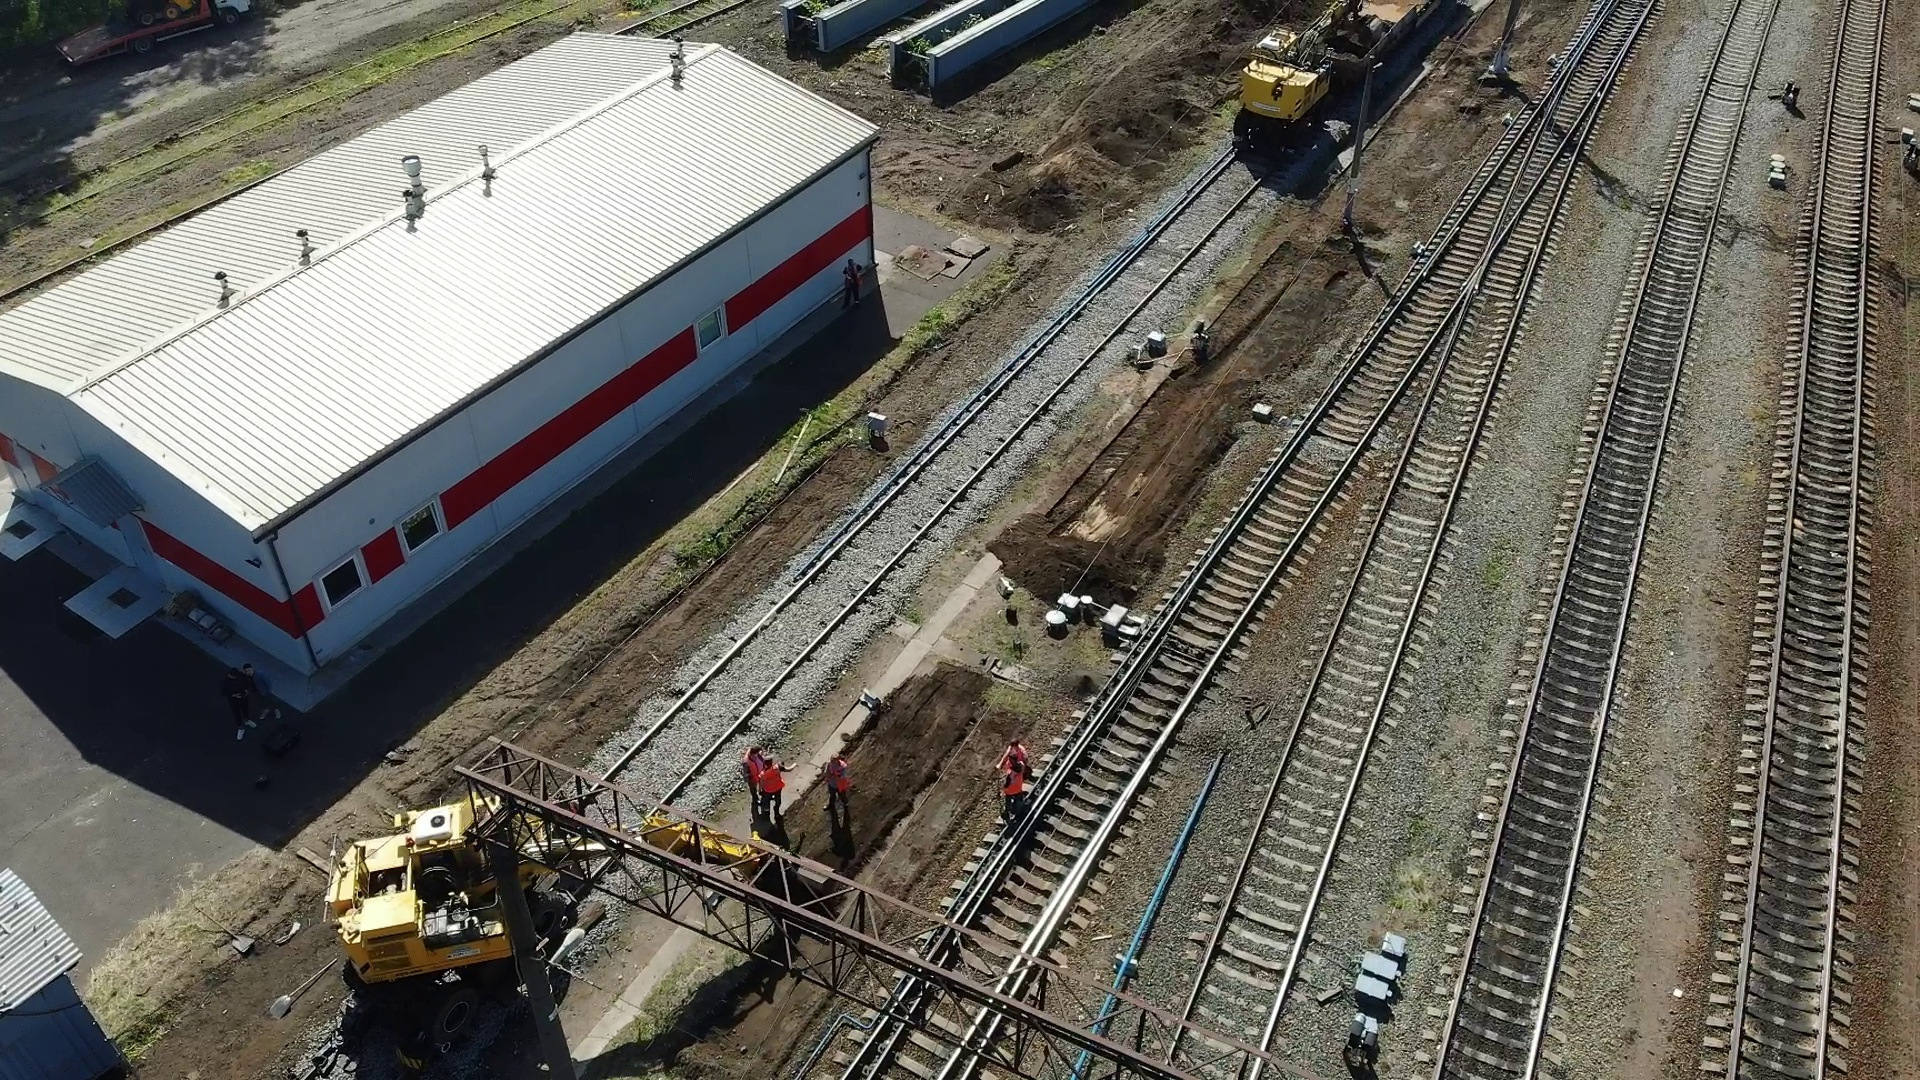kjtv: (328, 785, 632, 1059), (1226, 32, 1332, 160)
